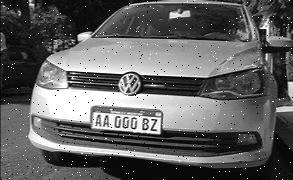placa_mercosul: (90, 107, 161, 134)
